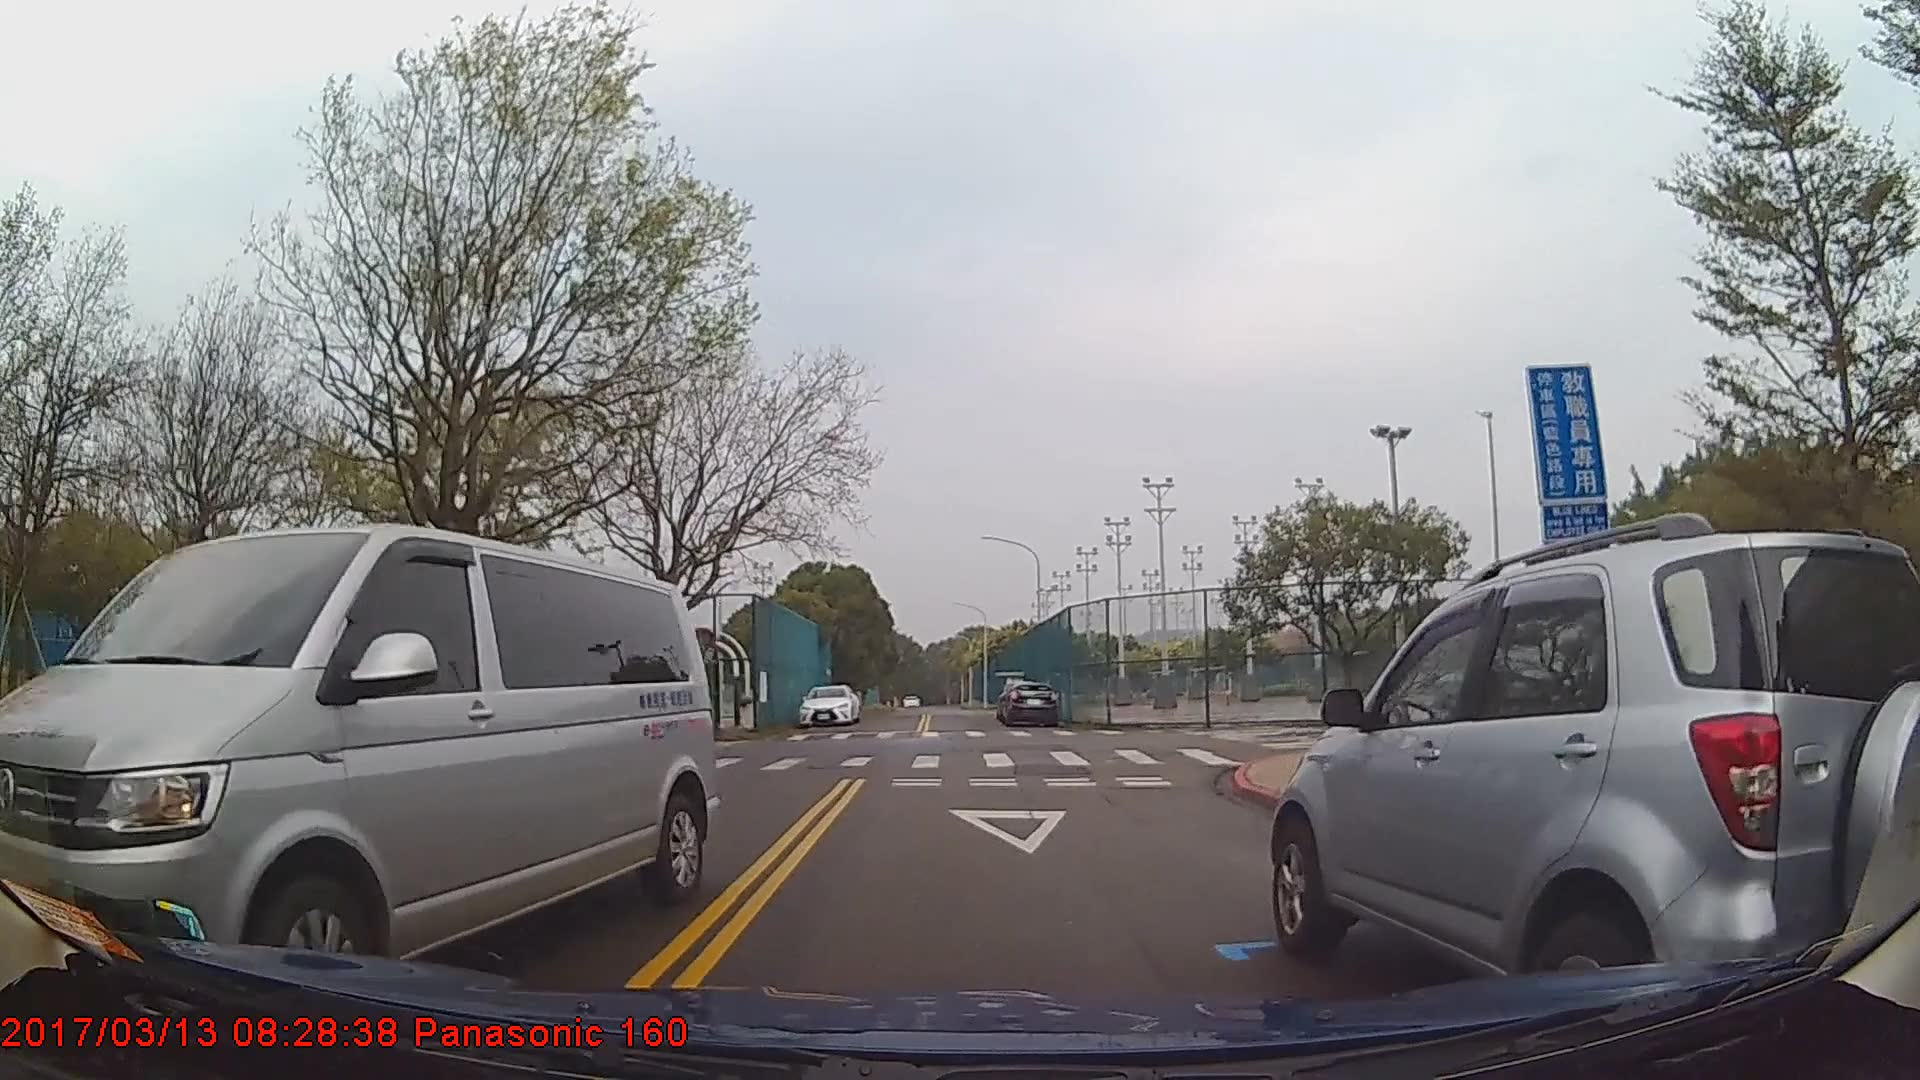vehicle: (0, 517, 717, 1000), (1269, 529, 1920, 1040), (796, 682, 860, 727), (1002, 680, 1058, 728)
